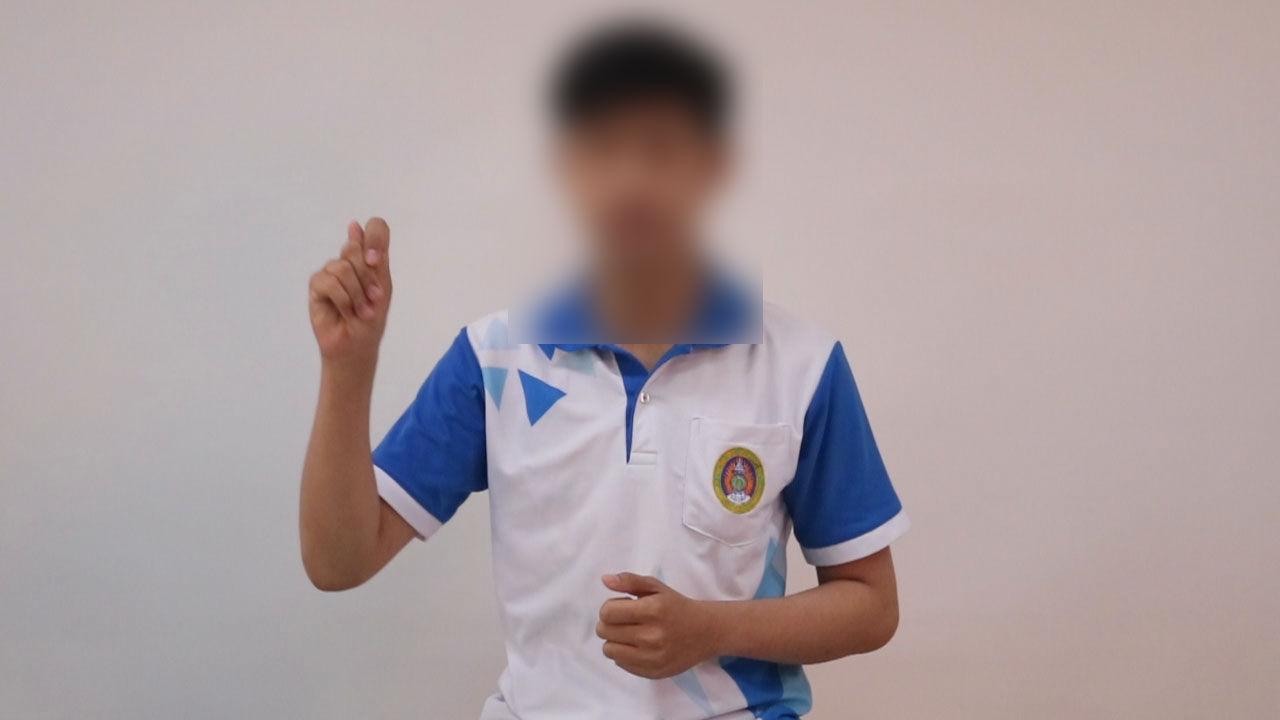tor: (277, 211, 412, 373)
